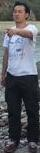boots: (3, 139, 19, 152)
